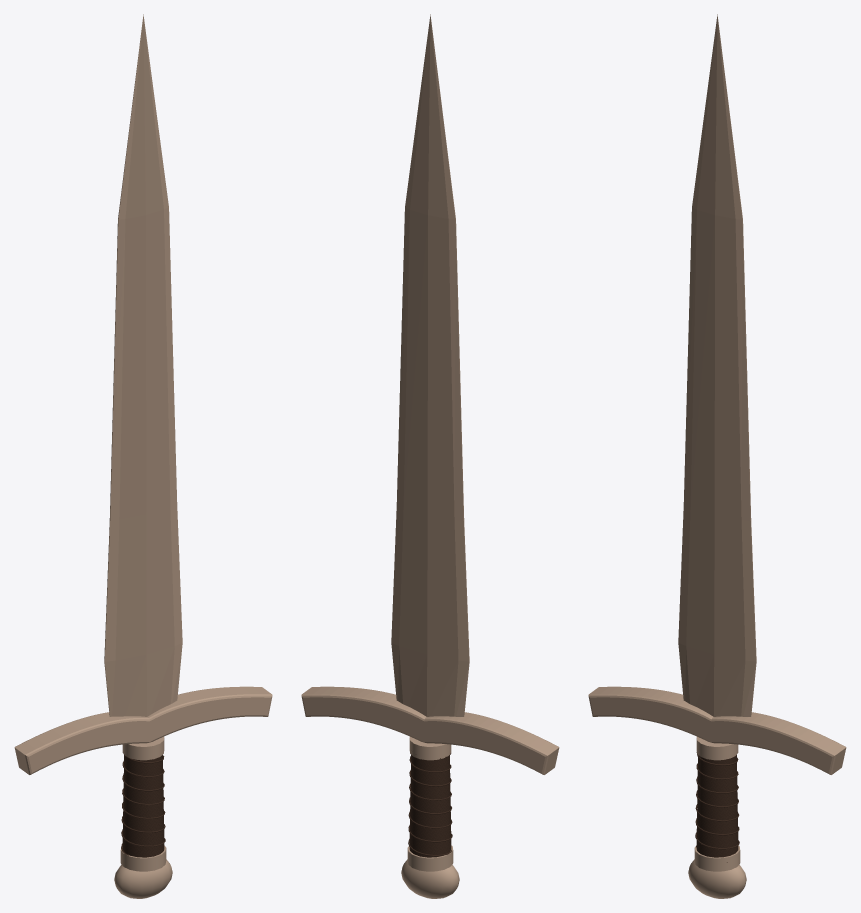
The model's file is corealm_sword_4.glb.
3 renders of one model, left to right at view 1: azimuth 30°, elevation 25°; view 2: azimuth 150°, elevation 25°; view 3: azimuth 330°, elevation 25°, orthographic.
Parts seen in each view (by area): view 1: corealm-weapon-blade, corealm-weapon-metal, corealm-weapon-leather; view 2: corealm-weapon-blade, corealm-weapon-metal, corealm-weapon-leather; view 3: corealm-weapon-blade, corealm-weapon-metal, corealm-weapon-leather.
Part boxes in pixels (left/top/right/bottom): corealm-weapon-blade: left=104, top=14, right=182, bottom=716; corealm-weapon-metal: left=14, top=686, right=272, bottom=898; corealm-weapon-leather: left=121, top=754, right=165, bottom=857; corealm-weapon-blade: left=391, top=14, right=469, bottom=716; corealm-weapon-metal: left=301, top=686, right=559, bottom=898; corealm-weapon-leather: left=408, top=753, right=452, bottom=857; corealm-weapon-blade: left=678, top=14, right=756, bottom=716; corealm-weapon-metal: left=588, top=686, right=846, bottom=898; corealm-weapon-leather: left=695, top=752, right=739, bottom=862.
Bounding box in the file's own units: 0.3491 × 1.19 × 0.056.
Materials: 3 (1 with a texture image).
